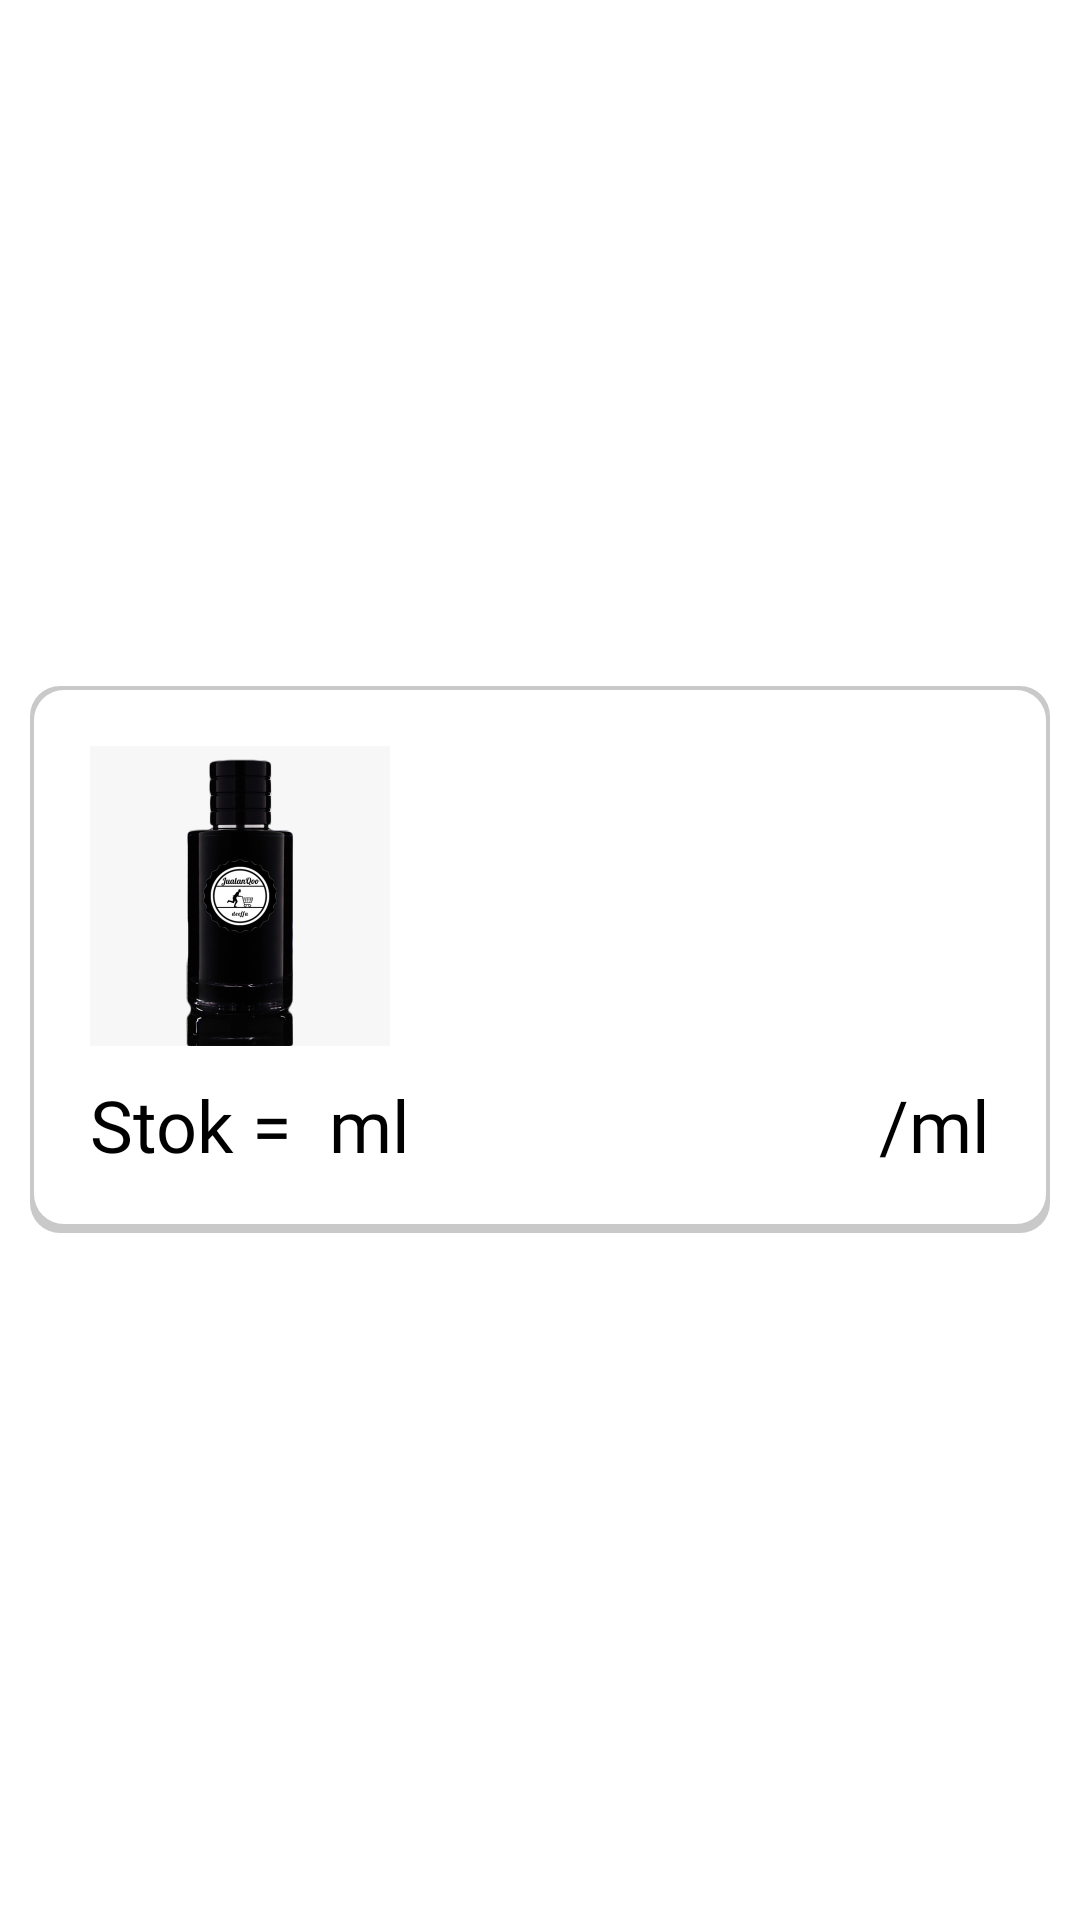

Icon click points for this 1080×1920 phone screenshot, format point (x, y):
parfum: point (239, 902)
